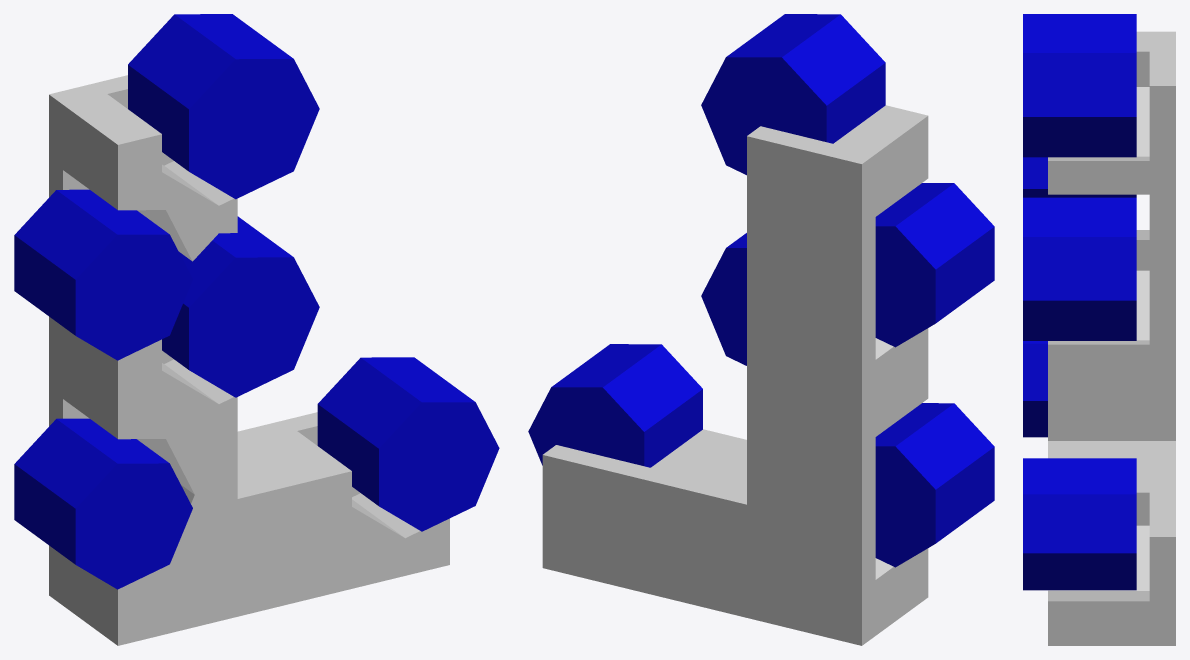
Rendered from Ch_Lite_L_01.fbx.
3 views of the same model, side by side, from view 1: azimuth 30°, elevation 25°; view 2: azimuth 150°, elevation 25°; view 3: azimuth 270°, elevation 25° (orthographic). The views are drawn at different scales.
Parts seen in each view (by area): view 1: sphere1; view 2: sphere1; view 3: sphere1.
Part boxes in pixels (x1,y1,x2,y2): sphere1: (14, 14, 499, 645); sphere1: (528, 14, 994, 645); sphere1: (1023, 14, 1175, 645).
Size of the model in its own units: 0.7082 by 0.912 by 0.2387.
